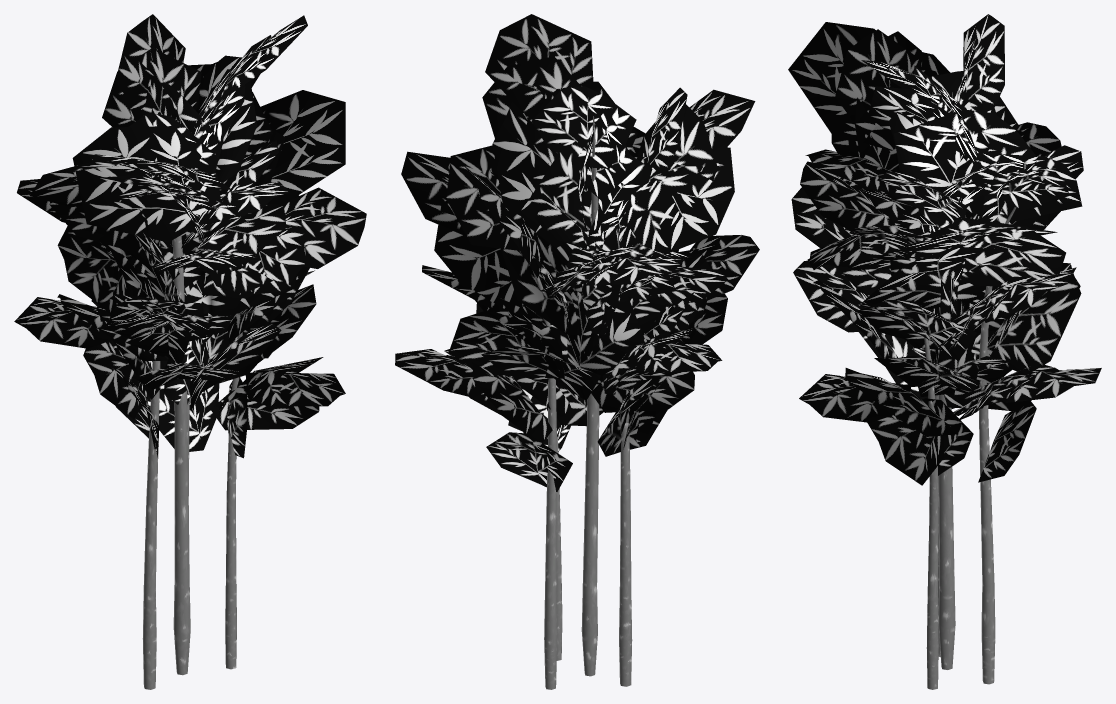
The model's file is P_BambooSaplingClump3.obj.
The picture shows the model from 3 angles, left to right: view 1: azimuth 30°, elevation 25°; view 2: azimuth 150°, elevation 25°; view 3: azimuth 270°, elevation 25°; orthographic projection. The views are drawn at different scales.
Bounding box in the file's own units: 6.58 × 12.66 × 5.49.
